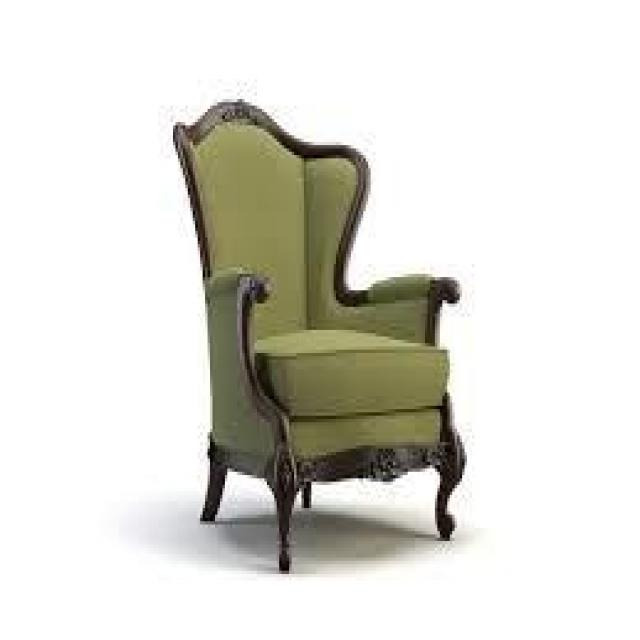chair: (132, 58, 500, 595)
